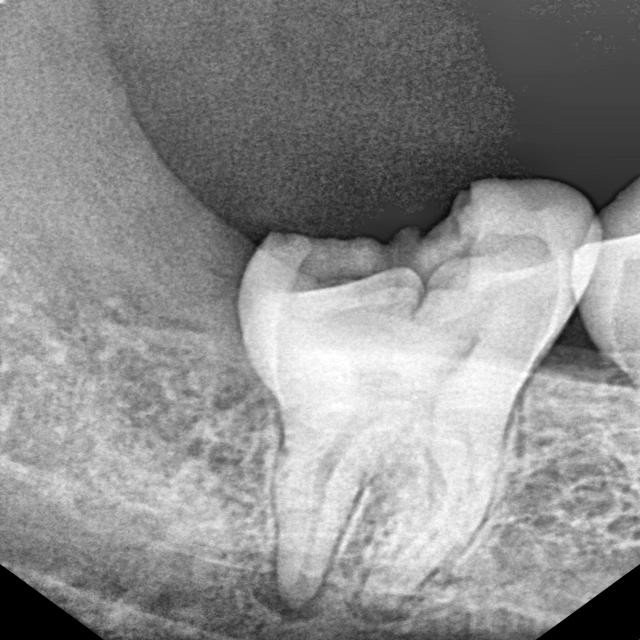Caries: (221, 153, 607, 406)
